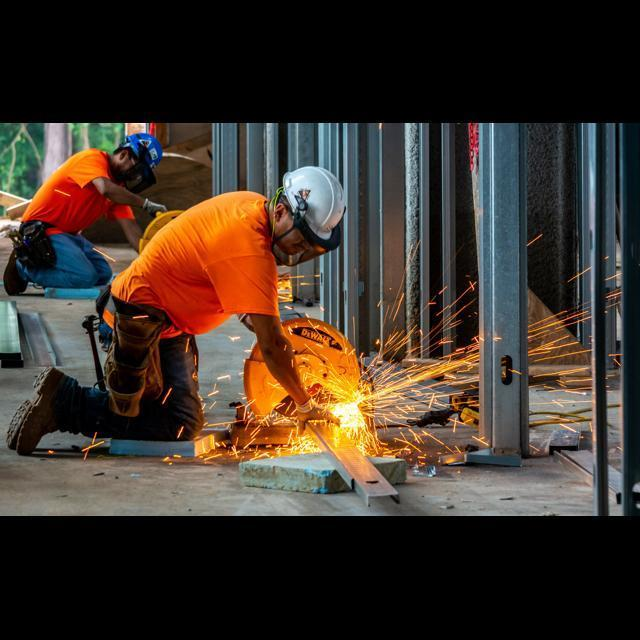Capacete: (273, 166, 345, 265), (114, 133, 161, 192)
